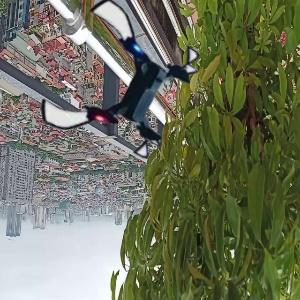drone: (48, 14, 191, 157)
